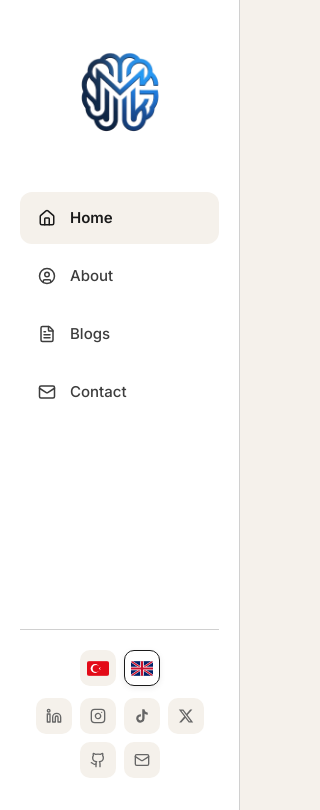
Test case: Sidebar › language switcher › switches to Turkish when TR button clicked
Click the button titled "Türkçe" at (98, 668), box [80,650,116,686]
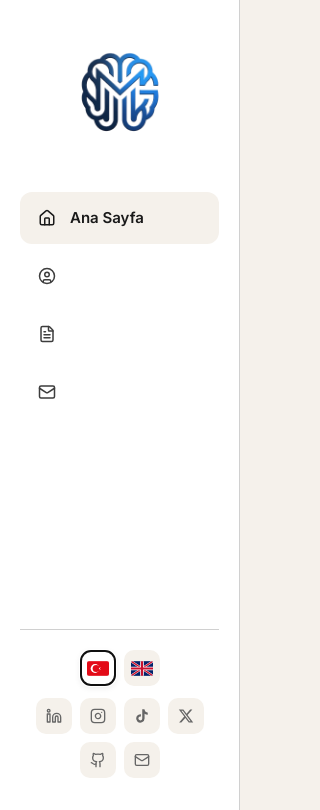
Expected: the text "Ana Sayfa" is shown, [70,206,144,230]
